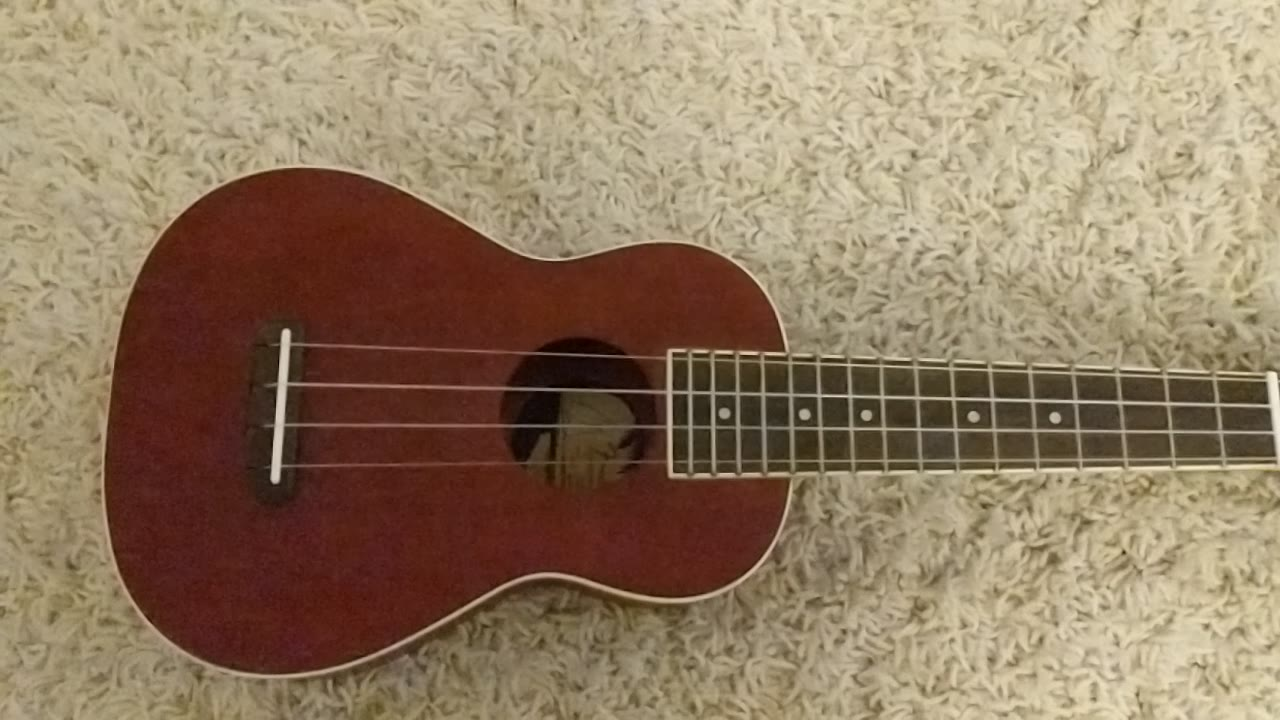Body: (93, 162, 800, 682)
Bridge: (252, 317, 303, 504)
